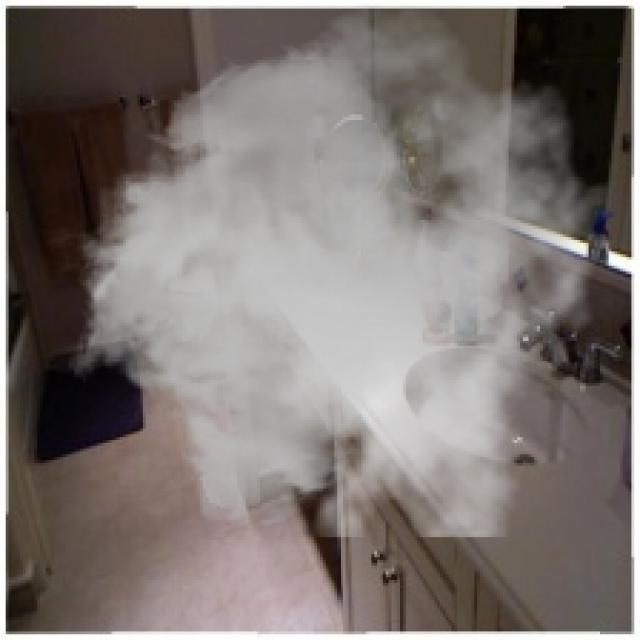smoke: (66, 3, 611, 537)
